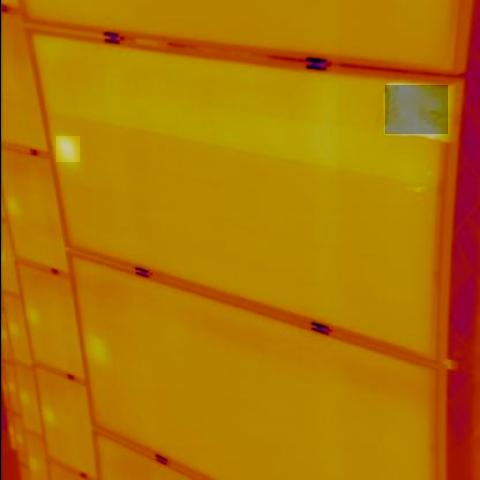fault: (385, 85, 448, 134), (56, 136, 80, 162)
